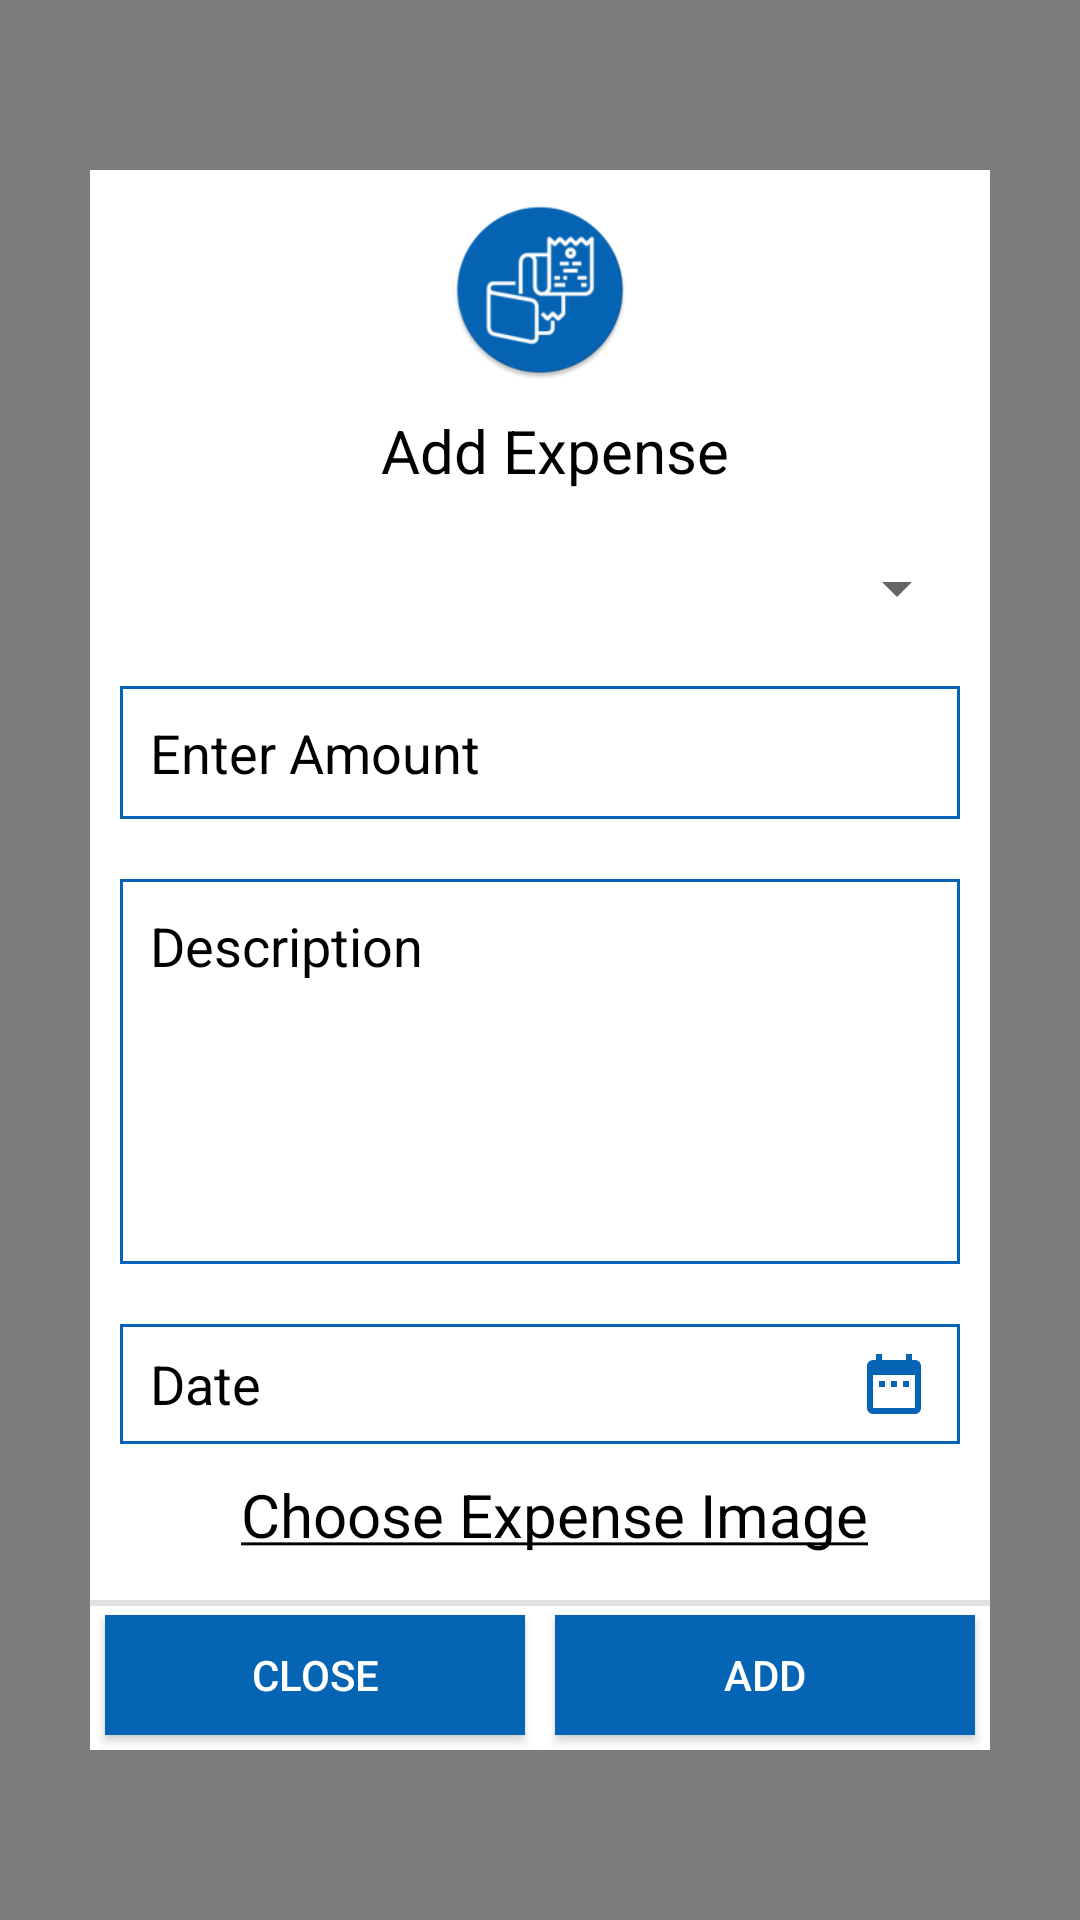

Icons on this 1080×1920 Android screen, each with the point to tap as (x=x, y=y):
expense round: (x=540, y=291)
